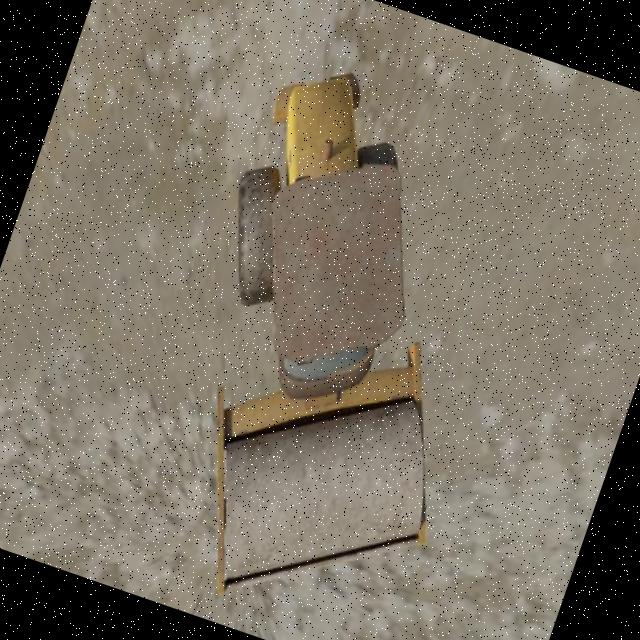Roller: (108, 46, 563, 640)
